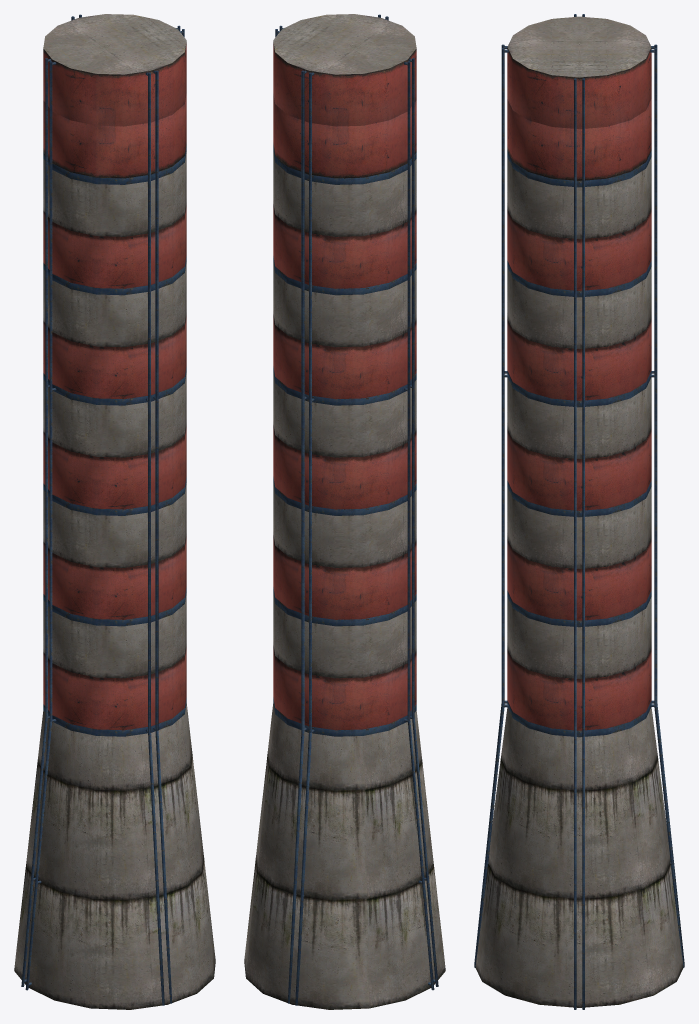
File: Building_Yc01.glb
3 views of the same model, side by side, from view 1: azimuth 30°, elevation 25°; view 2: azimuth 150°, elevation 25°; view 3: azimuth 270°, elevation 25° (orthographic).
Visible parts, largest first — view 1: xiutz_yc_01; view 2: xiutz_yc_01; view 3: xiutz_yc_01.
Part boxes in pixels (x1=…): xiutz_yc_01: x1=14, y1=14, x2=215, y2=1009; xiutz_yc_01: x1=244, y1=14, x2=445, y2=1009; xiutz_yc_01: x1=474, y1=14, x2=684, y2=1009.
Bounding box in the file's own units: 14.7 × 70.85 × 14.71.
1 material, 1 textured.
